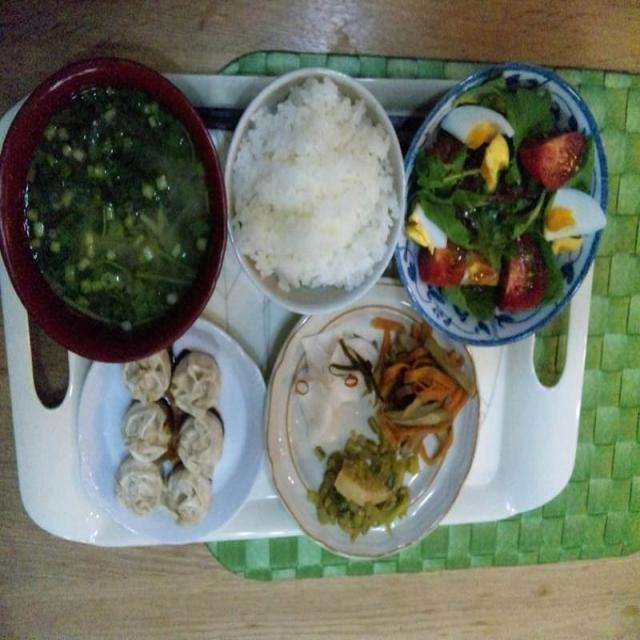Rice: (220, 58, 409, 316)
